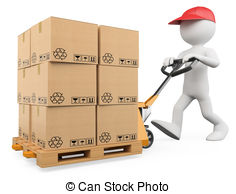box: (50, 18, 100, 64), (46, 106, 97, 145), (100, 24, 143, 67), (97, 63, 141, 103), (48, 63, 91, 101), (97, 106, 138, 140), (14, 72, 49, 99), (15, 29, 31, 73)
pallet: (39, 146, 147, 163)
